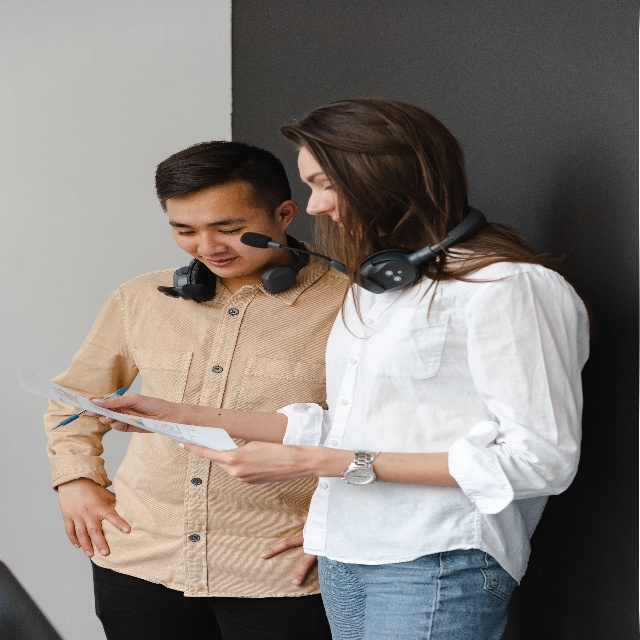Sin_guantes: (176, 425, 316, 488), (56, 478, 132, 558), (87, 392, 172, 440)
